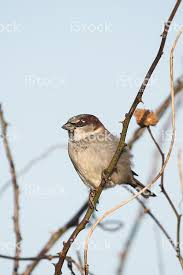hsparrow: (59, 112, 159, 222)
